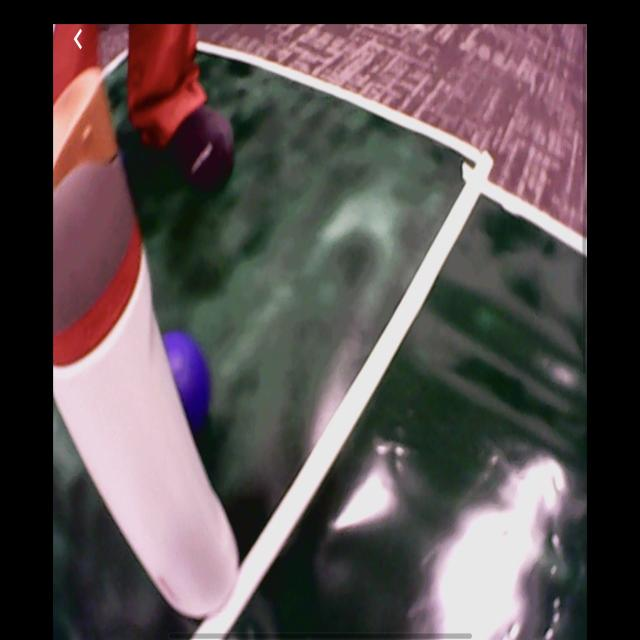ball: (157, 334, 213, 422)
